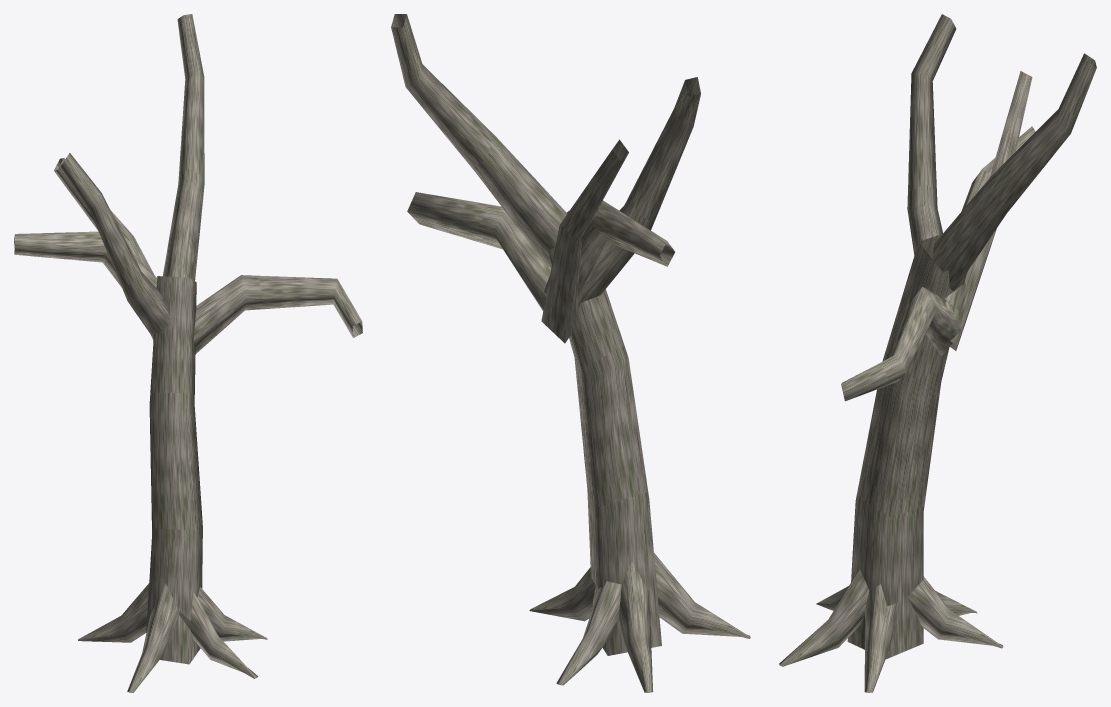
Rendered from DeadTree_5_LOD2.gltf.
3 renders of one model, left to right at view 1: azimuth 30°, elevation 25°; view 2: azimuth 150°, elevation 25°; view 3: azimuth 270°, elevation 25°, orthographic. The views are drawn at different scales.
Visible parts, largest first — view 1: DeadTree_5_LOD2; view 2: DeadTree_5_LOD2; view 3: DeadTree_5_LOD2.
Boxes of the visible parts, x1=… form: DeadTree_5_LOD2: x1=14, y1=14, x2=362, y2=692; DeadTree_5_LOD2: x1=391, y1=14, x2=750, y2=692; DeadTree_5_LOD2: x1=779, y1=14, x2=1096, y2=692.
Size of the model in its own units: 9.09 by 17.74 by 7.93.
Materials: 1 (1 with a texture image).
